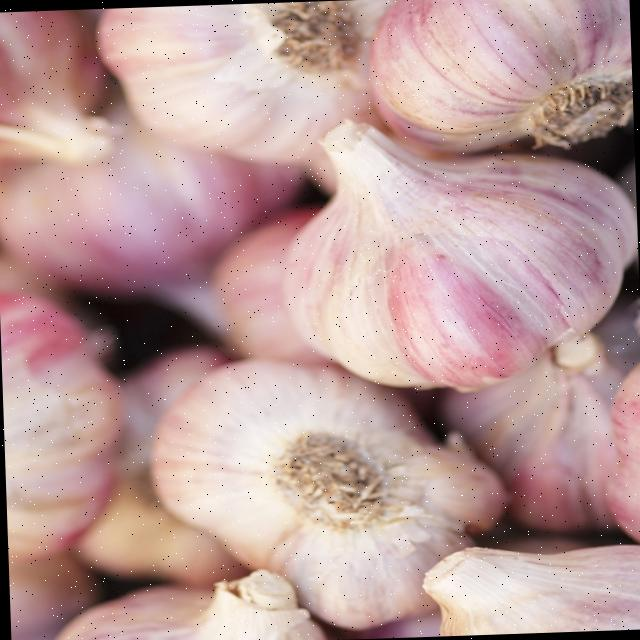garlic: (0, 254, 294, 640), (282, 121, 633, 390), (152, 361, 504, 629), (97, 0, 391, 188), (368, 0, 628, 152), (422, 545, 640, 636), (0, 10, 121, 166), (152, 401, 189, 507)
